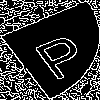P: (24, 25, 94, 82)
